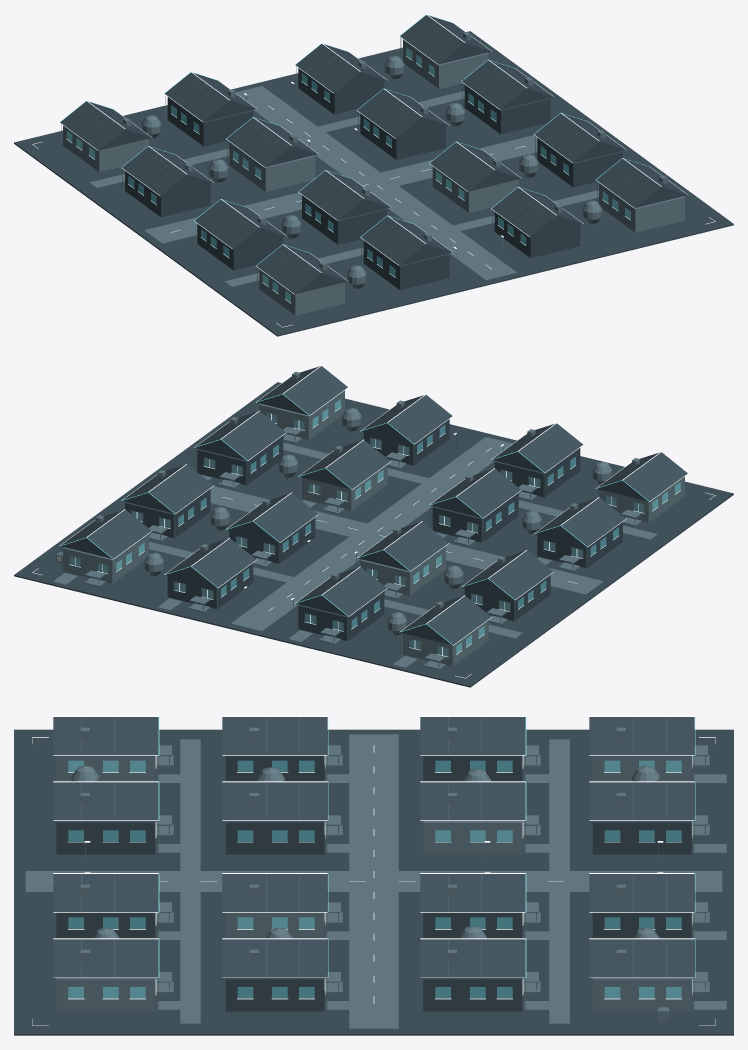
The model's file is residential_neighborhood.glb.
The picture shows the model from 3 angles, top to bottom: view 1: azimuth 30°, elevation 25°; view 2: azimuth 150°, elevation 25°; view 3: azimuth 270°, elevation 25°; orthographic projection. The views are drawn at different scales.
Visible parts, largest first — view 1: residential_neighborhood_graphite, residential_neighborhood_graphite_light, residential_neighborhood_white, residential_neighborhood_glass, residential_neighborhood_edge; view 2: residential_neighborhood_graphite, residential_neighborhood_graphite_light, residential_neighborhood_glass, residential_neighborhood_white, residential_neighborhood_edge; view 3: residential_neighborhood_graphite, residential_neighborhood_graphite_light, residential_neighborhood_glass, residential_neighborhood_white, residential_neighborhood_edge.
Part boxes in pixels (x1,y1,x2,y2): residential_neighborhood_graphite: (14,15,733,336); residential_neighborhood_graphite_light: (61,22,684,315); residential_neighborhood_white: (32,14,715,327); residential_neighborhood_glass: (67,48,630,302); residential_neighborhood_edge: (60,15,649,265); residential_neighborhood_graphite: (14,366,733,687); residential_neighborhood_graphite_light: (53,371,684,669); residential_neighborhood_glass: (70,399,680,655); residential_neighborhood_white: (32,365,715,678); residential_neighborhood_edge: (60,394,649,645); residential_neighborhood_graphite: (14,717,733,1035); residential_neighborhood_graphite_light: (25,717,726,1028); residential_neighborhood_glass: (68,761,681,998); residential_neighborhood_white: (32,716,715,1025); residential_neighborhood_edge: (158,717,695,977).
Bounding box in the file's own units: 175 × 15.64 × 175.
